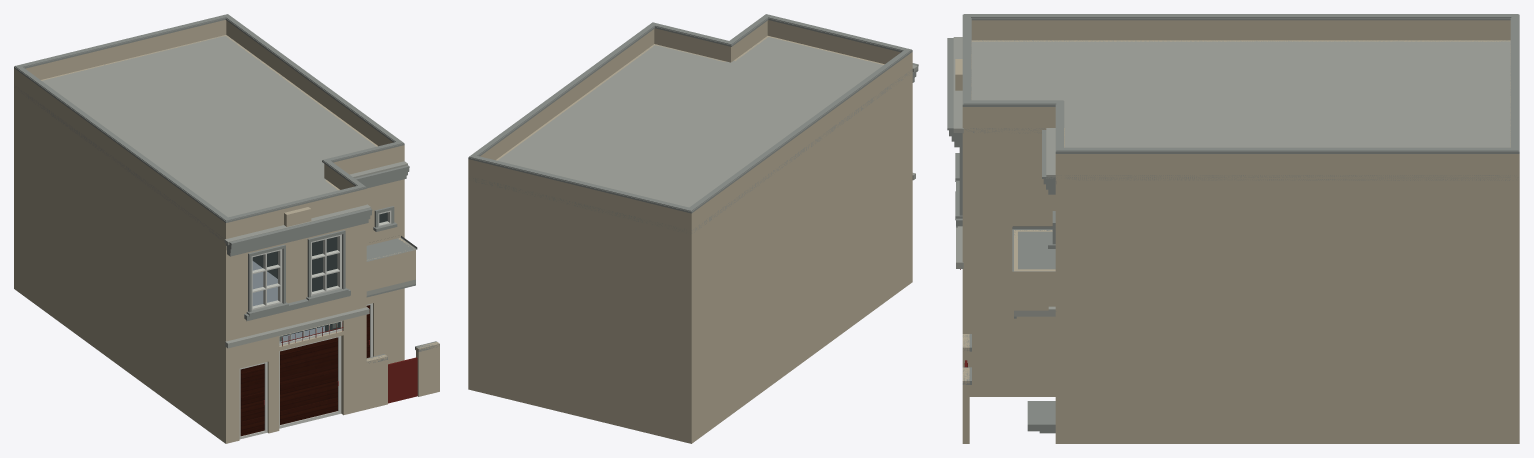
Rendered from building.glb.
3 views of the same model, side by side, from view 1: azimuth 30°, elevation 25°; view 2: azimuth 150°, elevation 25°; view 3: azimuth 270°, elevation 25° (orthographic). The views are drawn at different scales.
Visible parts, largest first — view 1: main:0/edge5/z0/main:0/edge5/z0/wall_0_0, roof/main:0/roof_slab#0001, main:0/edge0/z0/main:0/edge0/z0/wall_0_0, roof/main:0/parapet#0001, roof/main:0/parapet_cap#0002, main:0/edge2/z0/main:0/edge2/z0/wall_0_0, main:0/edge0/z0/opening_u1.75_v0.00/door_leaf#0001, roof/main:0/parapet_cap#0001, main:0/edge2/z0/proj_balcony_00/balustrade#0001, main:0/edge1/z0/main:0/edge1/z0/wall_0_0, main:0/edge3/z0/main:0/edge3/z0/wall_0_0, site/fence/0/pedestrian_gate#0001 (+21 smaller); view 2: main:0/edge4/z0/main:0/edge4/z0/wall_0_0, main:0/edge5/z0/main:0/edge5/z0/wall_0_0, roof/main:0/roof_slab#0001, roof/main:0/parapet#0001, roof/main:0/parapet_cap#0002, roof/main:0/parapet_cap#0001, main:0/edge3/z0/main:0/edge3/z0/wall_0_0, main:0/edge0/z0/main:0/edge0/z0/wall_0_0; view 3: main:0/edge3/z0/main:0/edge3/z0/wall_0_0, roof/main:0/roof_slab#0001, roof/main:0/parapet#0001, main:0/edge1/z0/main:0/edge1/z0/wall_0_0, roof/main:0/parapet_cap#0002, roof/main:0/parapet_cap#0001, main:0/edge2/z0/main:0/edge2/z0/wall_0_0, main:0/edge0/z0/main:0/edge0/z0/wall_0_0, main:0/edge2/z0/proj_balcony_00/balustrade_cap#0001, main:0/edge2/z0/proj_balcony_00/balustrade#0003, main:0/edge4/z0/main:0/edge4/z0/wall_0_0, main:0/edge5/z0/main:0/edge5/z0/wall_0_0 (+4 smaller).
Part boxes in pixels (box(x1,y1,x2,y2)): main:0/edge5/z0/main:0/edge5/z0/wall_0_0: box(14, 85, 231, 443); roof/main:0/roof_slab#0001: box(14, 36, 376, 240); main:0/edge0/z0/main:0/edge0/z0/wall_0_0: box(222, 223, 366, 443); roof/main:0/parapet#0001: box(14, 20, 404, 238); roof/main:0/parapet_cap#0002: box(14, 14, 403, 221); main:0/edge2/z0/main:0/edge2/z0/wall_0_0: box(366, 179, 404, 364); main:0/edge0/z0/opening_u1.75_v0.00/door_leaf#0001: box(280, 337, 337, 424); roof/main:0/parapet_cap#0001: box(14, 18, 404, 222); main:0/edge2/z0/proj_balcony_00/balustrade#0001: box(366, 249, 415, 291); main:0/edge1/z0/main:0/edge1/z0/wall_0_0: box(325, 180, 366, 410); main:0/edge3/z0/main:0/edge3/z0/wall_0_0: box(225, 35, 404, 349); site/fence/0/pedestrian_gate#0001: box(388, 357, 417, 403); main:0/edge4/z0/main:0/edge4/z0/wall_0_0: box(468, 176, 695, 443); main:0/edge5/z0/main:0/edge5/z0/wall_0_0: box(685, 69, 912, 443); roof/main:0/roof_slab#0001: box(469, 37, 911, 234); roof/main:0/parapet#0001: box(468, 20, 912, 230); roof/main:0/parapet_cap#0002: box(469, 14, 911, 211); roof/main:0/parapet_cap#0001: box(468, 18, 912, 213); main:0/edge3/z0/main:0/edge3/z0/wall_0_0: box(468, 44, 654, 390); main:0/edge0/z0/main:0/edge0/z0/wall_0_0: box(767, 36, 912, 283); main:0/edge3/z0/main:0/edge3/z0/wall_0_0: box(1055, 175, 1519, 443); roof/main:0/roof_slab#0001: box(965, 40, 1518, 180); roof/main:0/parapet#0001: box(962, 20, 1519, 174); main:0/edge1/z0/main:0/edge1/z0/wall_0_0: box(962, 128, 1055, 396); roof/main:0/parapet_cap#0002: box(963, 14, 1518, 151); roof/main:0/parapet_cap#0001: box(962, 14, 1519, 153); main:0/edge2/z0/main:0/edge2/z0/wall_0_0: box(1055, 128, 1064, 443); main:0/edge0/z0/main:0/edge0/z0/wall_0_0: box(962, 40, 971, 396); main:0/edge2/z0/proj_balcony_00/balustrade_cap#0001: box(1012, 226, 1055, 271); main:0/edge2/z0/proj_balcony_00/balustrade#0003: box(1014, 269, 1055, 310); main:0/edge4/z0/main:0/edge4/z0/wall_0_0: box(1510, 41, 1519, 443); main:0/edge5/z0/main:0/edge5/z0/wall_0_0: box(971, 40, 1509, 41).
Bounding box in the file's own units: 7.04 × 7.13 × 12.33.
Materials: 9 (1 with a texture image).
